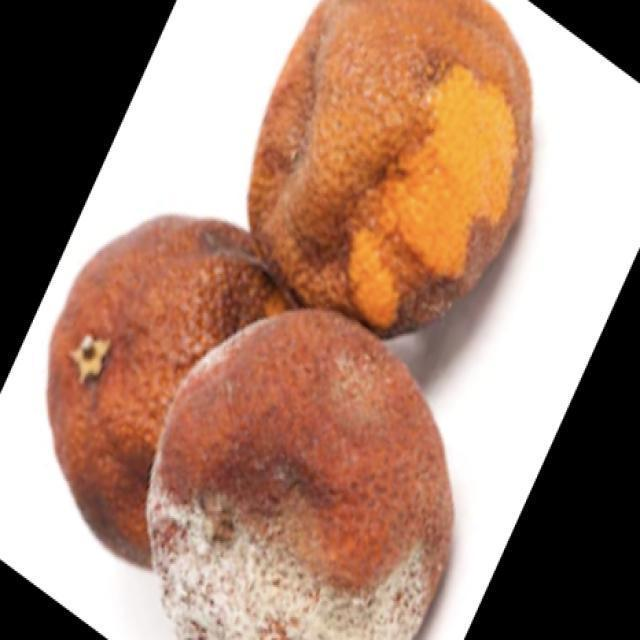Orange: (144, 306, 455, 638), (246, 0, 533, 338), (46, 212, 296, 569)
